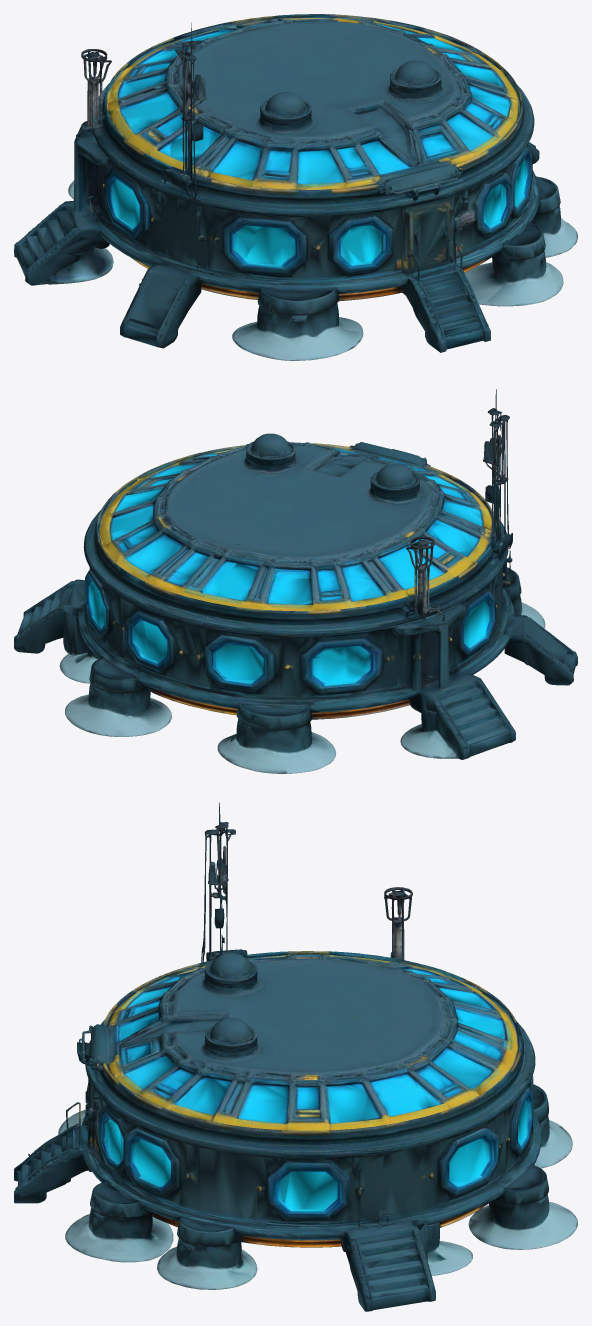
The model's file is hero-arctic-outpost.glb.
3 renders of one model, top to bottom at view 1: azimuth 30°, elevation 25°; view 2: azimuth 150°, elevation 25°; view 3: azimuth 270°, elevation 25°, orthographic. The views are drawn at different scales.
Parts seen in each view (by area): view 1: node_0; view 2: node_0; view 3: node_0.
Part boxes in pixels (x1,y1,x2,y2): node_0: [14, 14, 577, 360]; node_0: [14, 389, 577, 773]; node_0: [14, 802, 577, 1311].
Bounding box in the file's own units: 1.04 × 0.5679 × 0.9623.
Materials: 1 (1 with a texture image).
